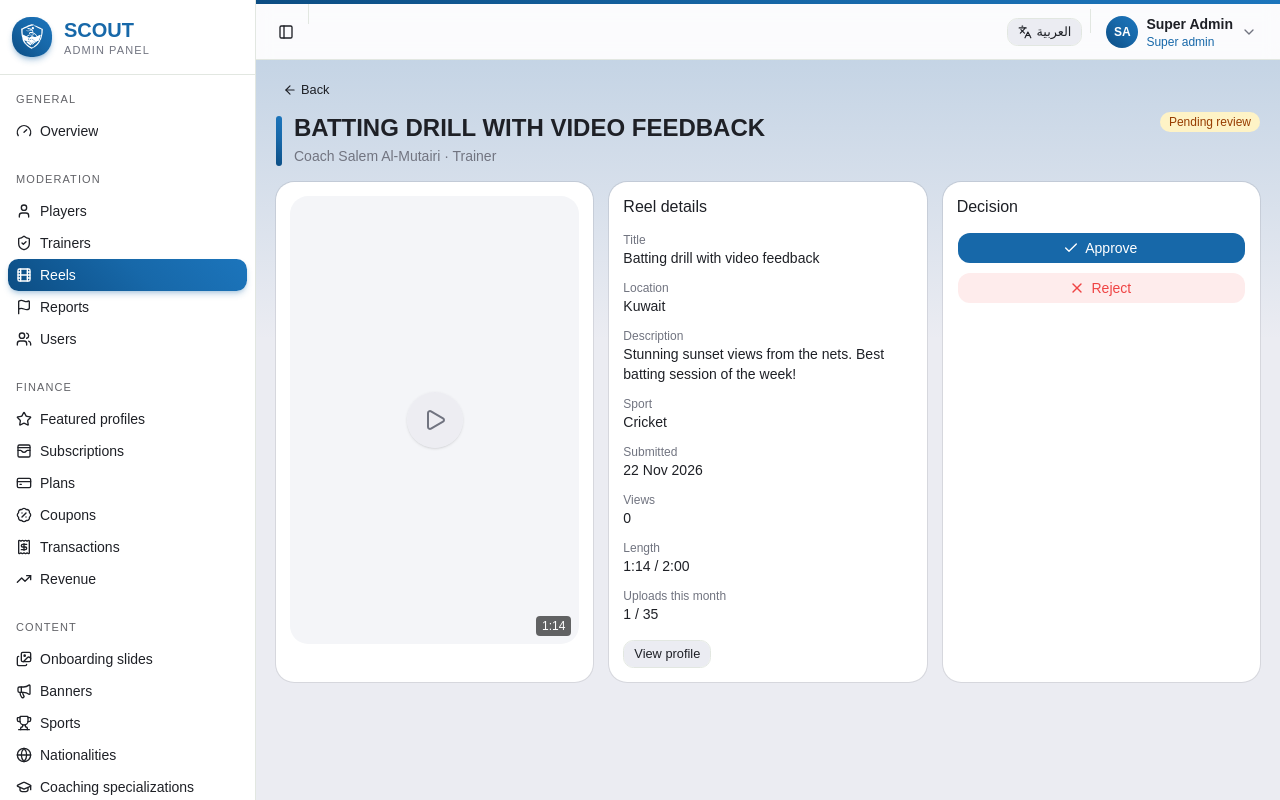
Test: clickable dashboard › approves a pending reel
Click the button "Approve".
click(1101, 248)  # box [957,232,1246,264]
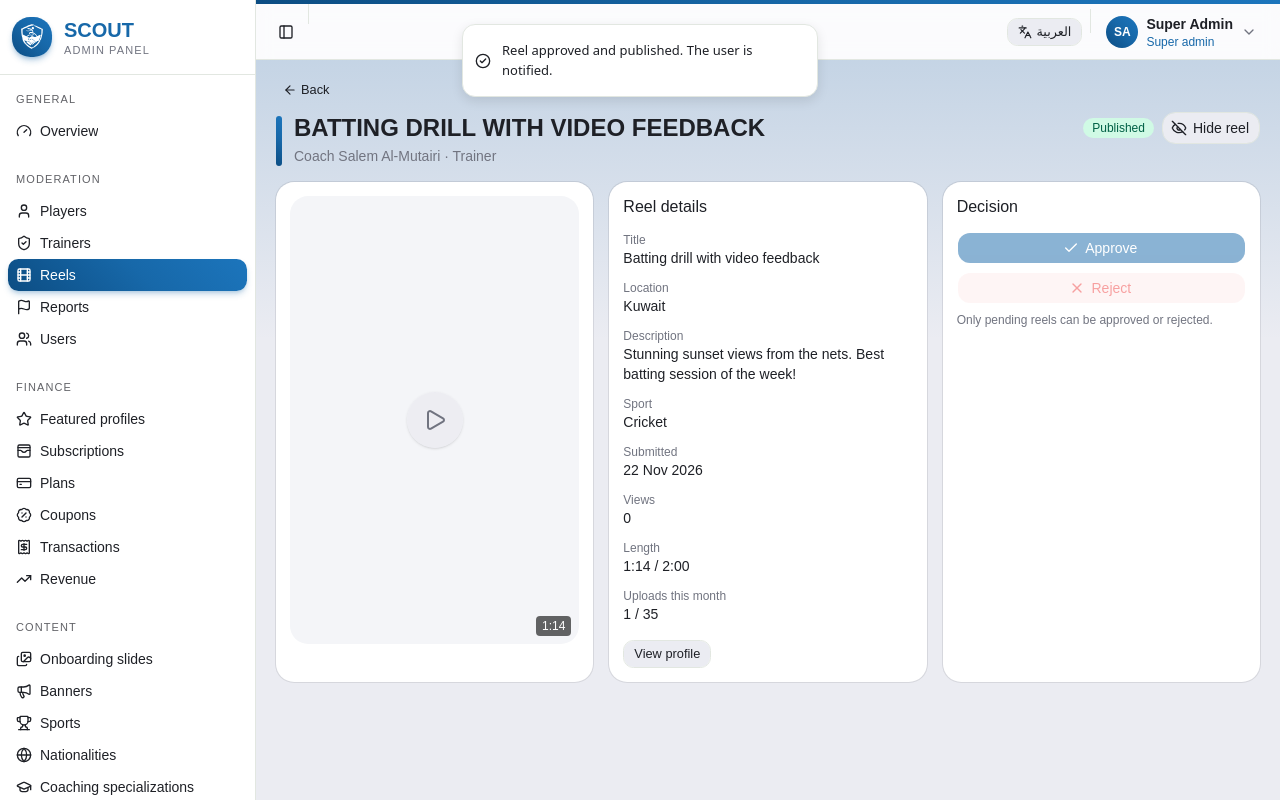
Result: the text "Published" is shown at [1083,118,1154,138]
Result: the button "Approve" is disabled at [957,232,1246,264]
